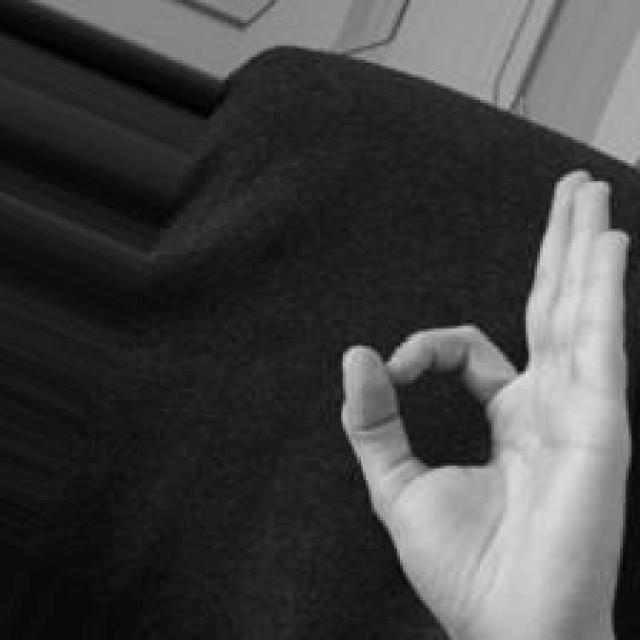O: (334, 165, 640, 640)
